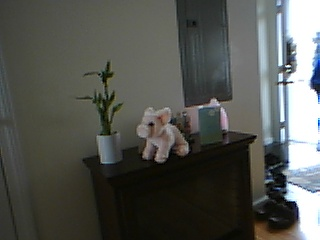piggy: (135, 105, 189, 163)
